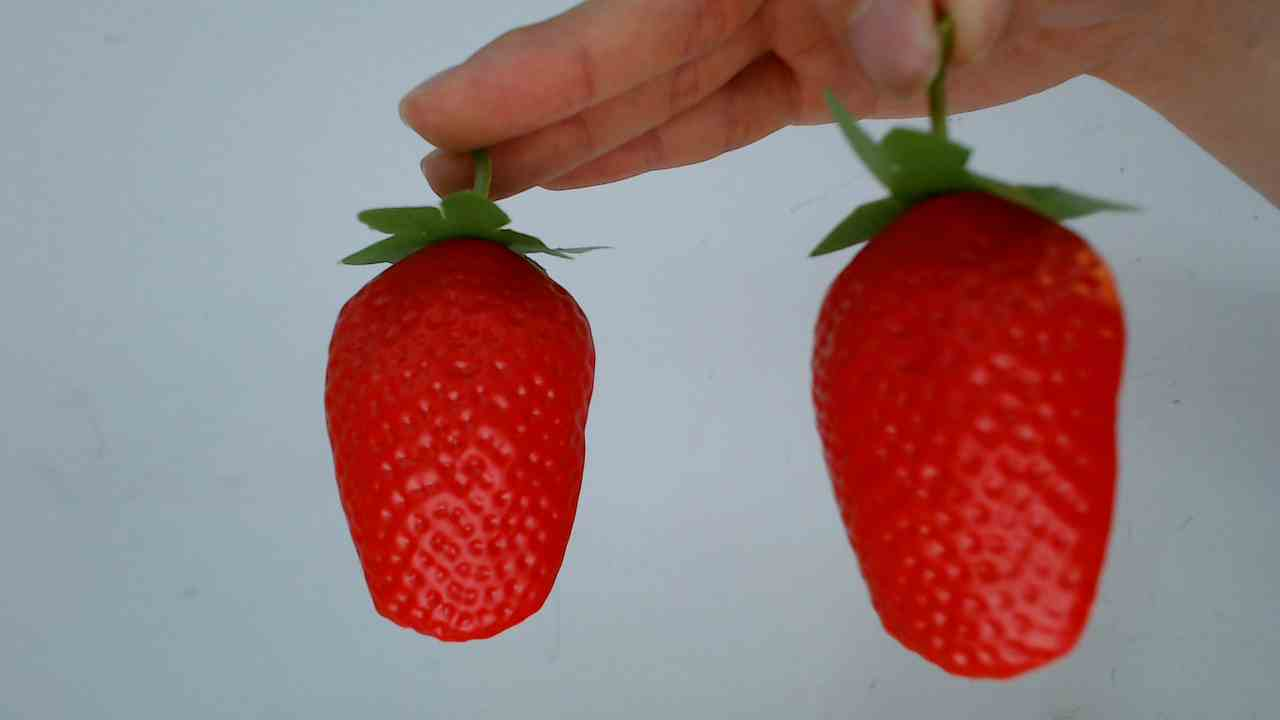strawberry: (787, 174, 1146, 683), (314, 203, 606, 645)
